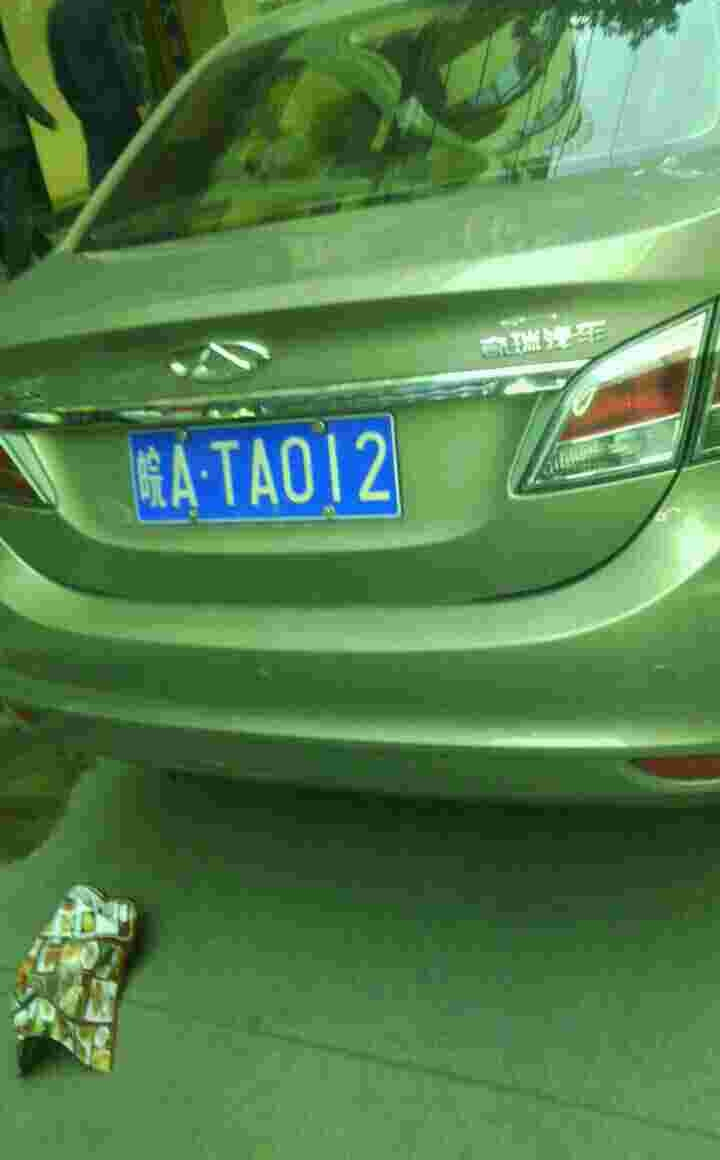license_plate: (130, 418, 402, 527)
